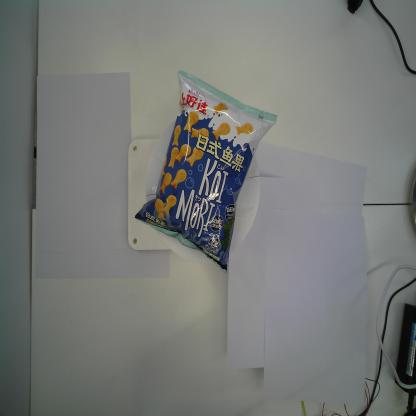Puffed Food: (134, 69, 278, 275)
